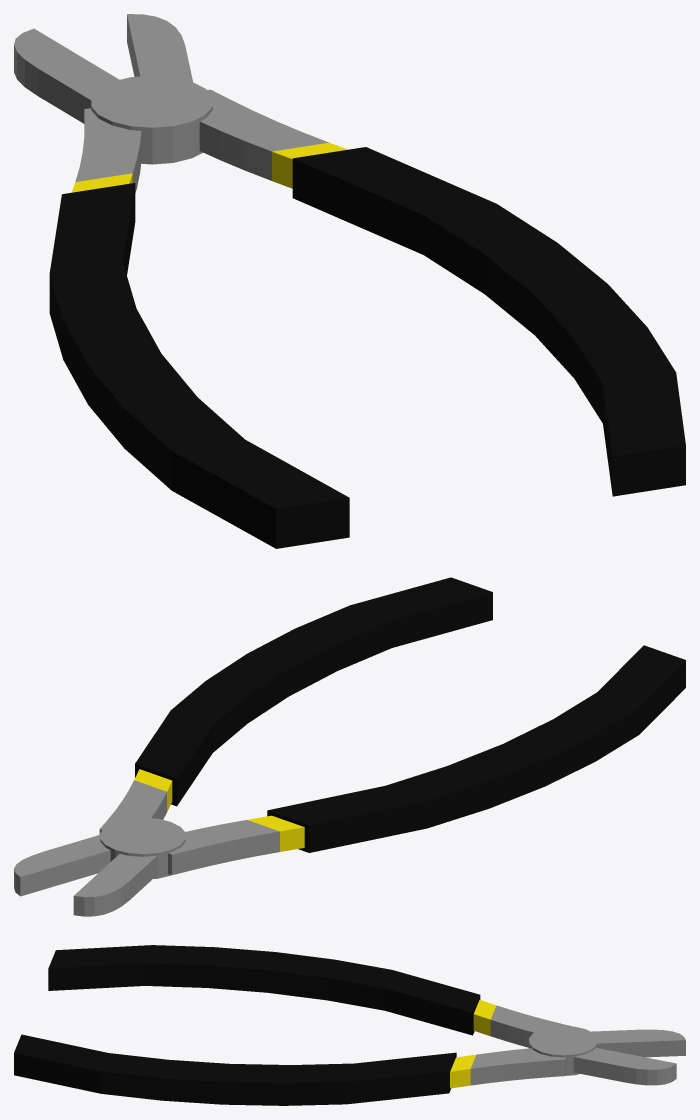
Rendered from Pliers.obj.
3 renders of one model, top to bottom at view 1: azimuth 30°, elevation 25°; view 2: azimuth 150°, elevation 25°; view 3: azimuth 270°, elevation 25°, orthographic. The views are drawn at different scales.
Parts seen in each view (by area): view 1: Box002, Box001, Box004, Cylinder001; view 2: Box001, Box002, Box004, Cylinder001; view 3: Box002, Box001, Box004, Cylinder001.
Boxes of the visible parts, x1,y1,x2,y2 form: Box002: (199,89,685,496); Box001: (49,108,349,548); Box004: (14,14,192,123); Cylinder001: (91,75,212,164); Box001: (168,645,685,875); Box002: (99,577,492,834); Box004: (14,835,156,916); Cylinder001: (100,817,185,878); Box002: (14,1034,566,1105); Box001: (48,945,572,1047); Box004: (573,1029,685,1085); Cylinder001: (529,1026,597,1075).
Size of the model in its own units: 549454 by 41657 by 1127600.
